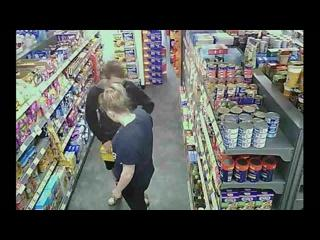shoplifting: (100, 82, 155, 209), (84, 61, 144, 145)
